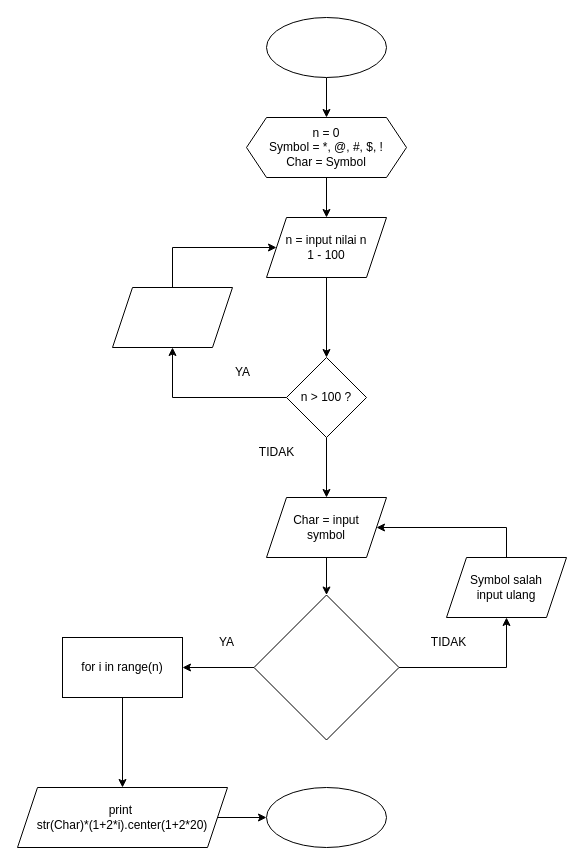
This 584x865 diagram has some shape labels left out. The shapes that lost their labels are listed below. From the top down, each one's centre as x and y in pixels, then its label:
pixel 326 47: START
pixel 172 317: n melebihi limit input n kembali
pixel 326 667: Char == Symbol ?
pixel 326 817: FINISH
